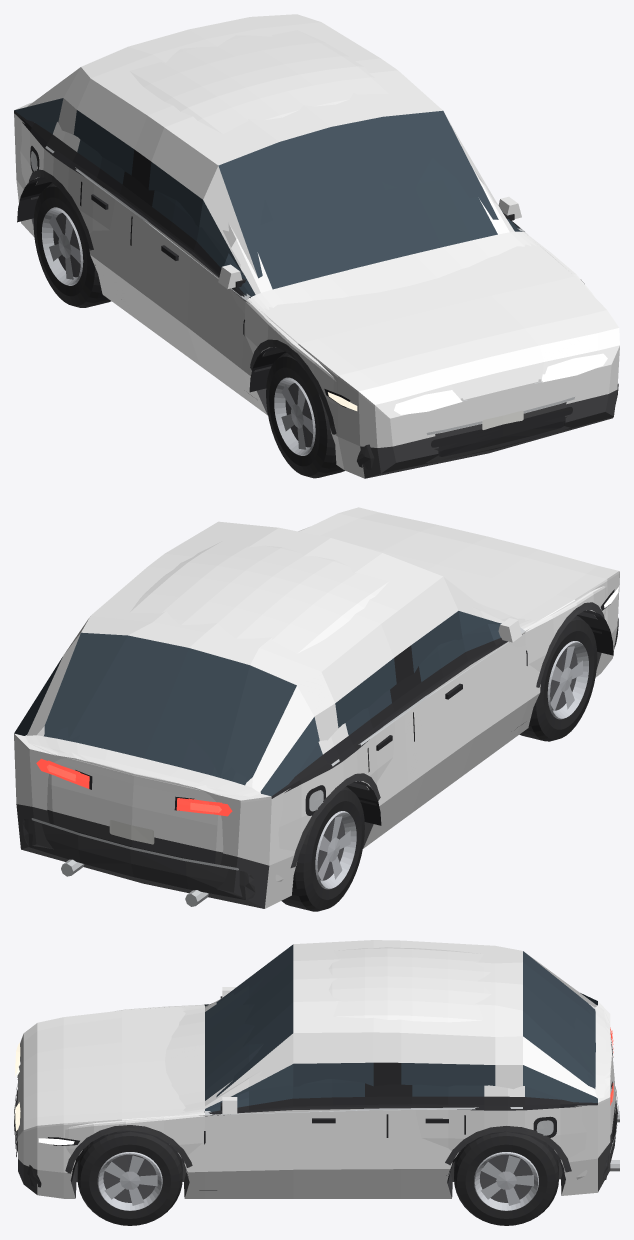
File: pampeiro.glb
The picture shows the model from 3 angles, top to bottom: view 1: azimuth 30°, elevation 25°; view 2: azimuth 150°, elevation 25°; view 3: azimuth 270°, elevation 25°; orthographic projection. The views are drawn at different scales.
Parts seen in each view (by area): view 1: body.001, body, glass.001, glass, details, wheel_fr, wheel_rr, lamp_head.001, wheel_wells.001; view 2: body.001, body, glass.001, details, glass, wheel_rr, wheel_fr, wheel_wells.001, lamp_tail; view 3: body.001, body, glass.001, glass, wheel_fl, wheel_rl, details, wheel_wells, wheel_wells.001.
Boxes of the visible parts, left/top/right/bottom form: body.001: left=14, top=14, right=619, bottom=478; body: left=20, top=30, right=594, bottom=412; glass.001: left=14, top=98, right=519, bottom=295; glass: left=34, top=121, right=521, bottom=297; details: left=28, top=146, right=618, bottom=469; wheel_fr: left=266, top=352, right=344, bottom=478; wheel_rr: left=33, top=183, right=111, bottom=307; lamp_head.001: left=394, top=353, right=607, bottom=414; wheel_wells.001: left=17, top=177, right=286, bottom=392; body.001: left=14, top=507, right=619, bottom=908; body: left=25, top=527, right=606, bottom=894; glass.001: left=14, top=611, right=500, bottom=796; details: left=22, top=602, right=618, bottom=906; glass: left=44, top=623, right=501, bottom=785; wheel_rr: left=281, top=786, right=364, bottom=911; wheel_fr: left=519, top=615, right=597, bottom=741; wheel_wells.001: left=346, top=610, right=613, bottom=825; lamp_tail: left=47, top=760, right=221, bottom=814; body.001: left=18, top=940, right=610, bottom=1198; body: left=65, top=947, right=615, bottom=1181; glass.001: left=212, top=944, right=597, bottom=1112; glass: left=205, top=978, right=595, bottom=1112; wheel_fl: left=77, top=1131, right=182, bottom=1225; wheel_rl: left=454, top=1131, right=558, bottom=1225; details: left=14, top=987, right=619, bottom=1190; wheel_wells: left=71, top=1130, right=565, bottom=1182; wheel_wells.001: left=71, top=1132, right=565, bottom=1183.
Bounding box in the file's own units: 1.99 × 1.59 × 4.38.
